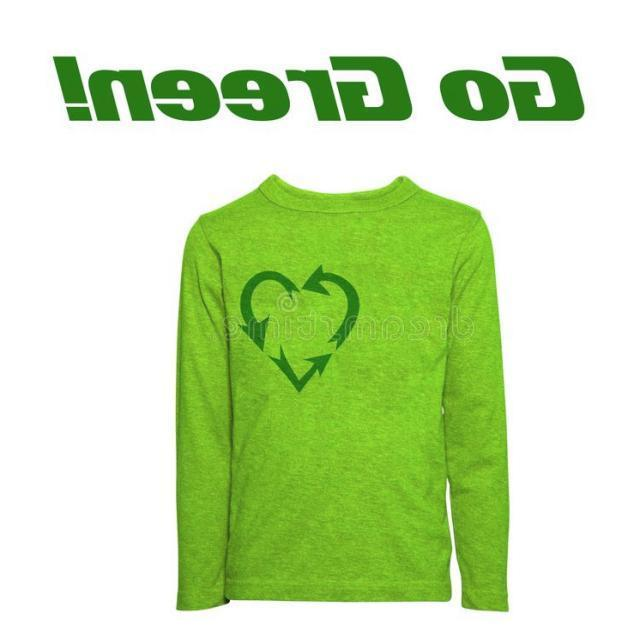clothes: (158, 155, 522, 628)
